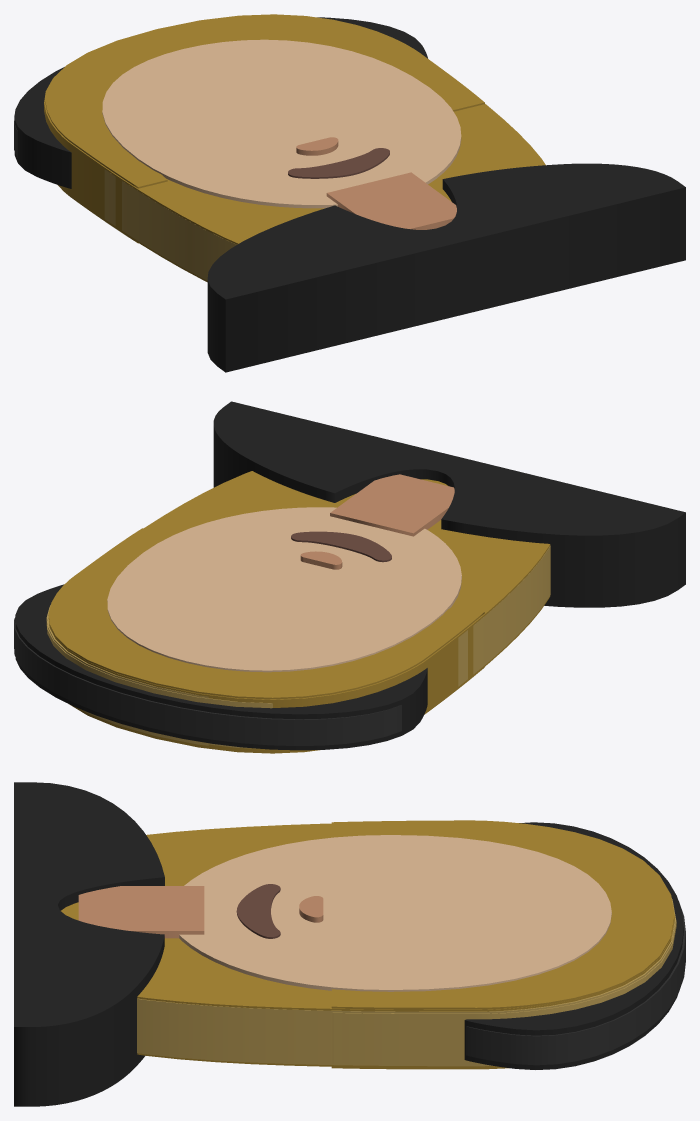
File: emoji_u1f469_1f3fc_200d_2708.glb
3 views of the same model, one above another, from view 1: azimuth 30°, elevation 25°; view 2: azimuth 150°, elevation 25°; view 3: azimuth 270°, elevation 25° (orthographic). The views are drawn at different scales.
Parts seen in each view (by area): view 1: emoji_u1f469_1f3fc_200d_2708; view 2: emoji_u1f469_1f3fc_200d_2708; view 3: emoji_u1f469_1f3fc_200d_2708.
Boxes of the visible parts, x1,y1,x2,y2 form: emoji_u1f469_1f3fc_200d_2708: (14,14,685,372); emoji_u1f469_1f3fc_200d_2708: (14,401,685,753); emoji_u1f469_1f3fc_200d_2708: (14,782,685,1106).
Size of the model in its own units: 0.029 by 0.0044 by 0.0337.
